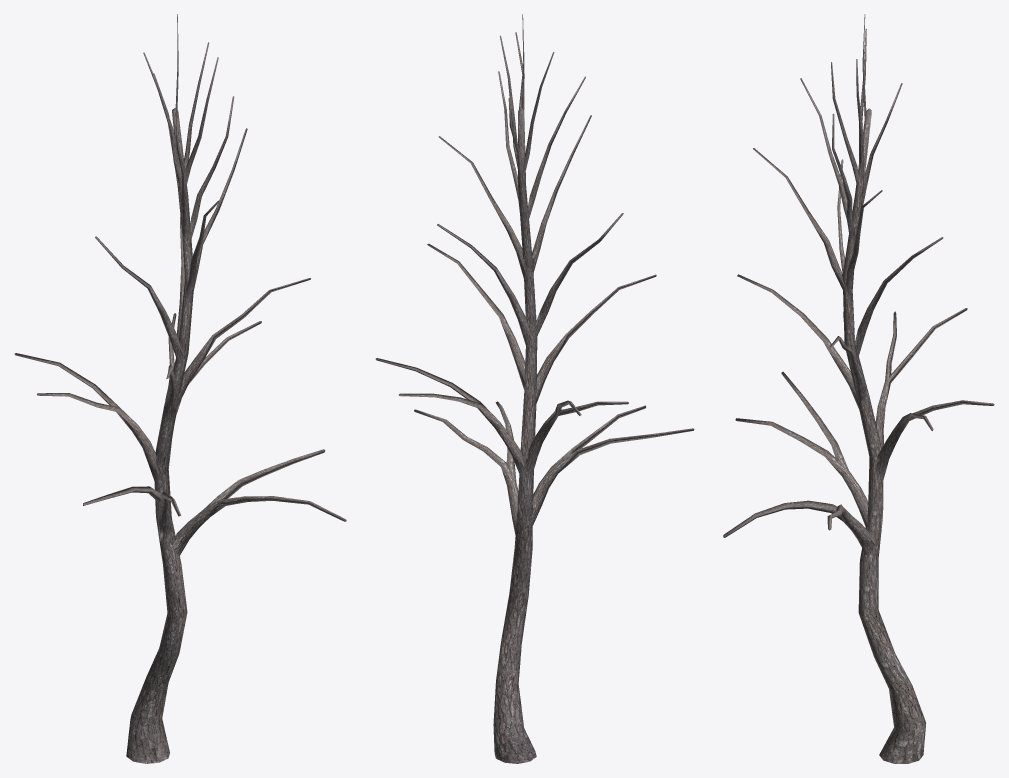
File: Arbol_Seco.glb
3 renders of one model, left to right at view 1: azimuth 30°, elevation 25°; view 2: azimuth 150°, elevation 25°; view 3: azimuth 270°, elevation 25°, orthographic. The views are drawn at different scales.
Visible parts, largest first — view 1: Mobile_Tree_2; view 2: Mobile_Tree_2; view 3: Mobile_Tree_2.
Part boxes in pixels (x1,y1,x2,y2): Mobile_Tree_2: (14,14,346,763); Mobile_Tree_2: (375,14,694,763); Mobile_Tree_2: (723,14,994,763).
Bounding box in the file's own units: 6.81 × 18.35 × 6.06.
1 material, 1 textured.
